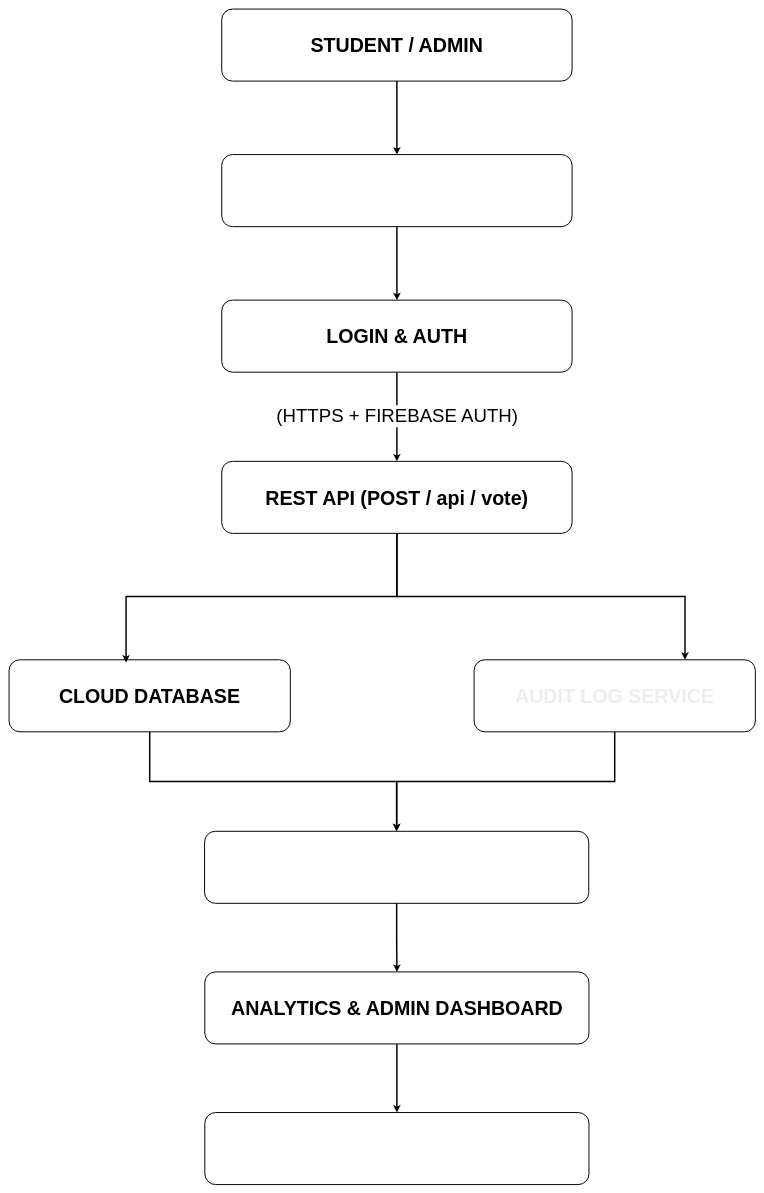
The diagram is 764 pixels wide and 1193 high, and some of its shapes have lost their labels. The shapes that lost their labels are listed below. From the top down, each one's centre as x and y in pixels, then its label:
the point at 396,190: WEB + MOBILE APP (FLUTTER)
the point at 396,867: RESULT INTEGRITY VERIFICATION
the point at 396,1148: VOTE CONFIRMATION / LIVE RESULTS
